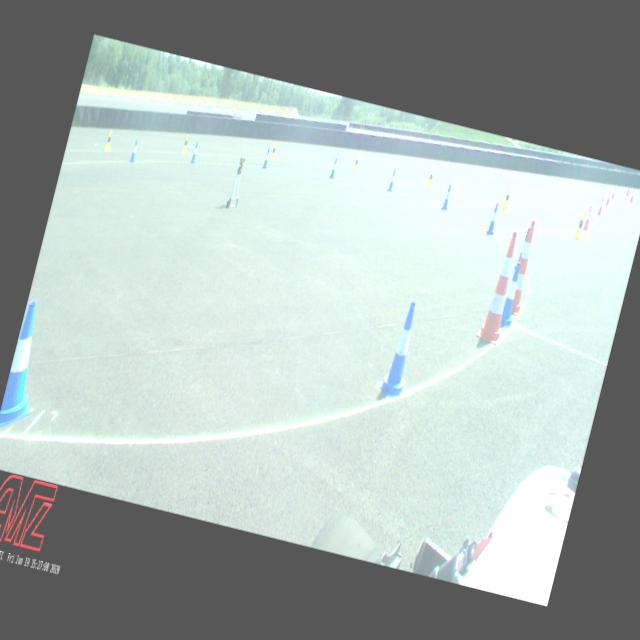blue_cone: (0, 300, 55, 433), (377, 298, 428, 400), (498, 262, 526, 328), (514, 227, 530, 270), (486, 202, 500, 235), (442, 182, 454, 210), (129, 139, 140, 162), (386, 168, 396, 191), (190, 142, 200, 164), (262, 148, 271, 169), (329, 158, 338, 178)
large_orange_cone: (476, 230, 528, 344), (508, 220, 542, 314)
orange_cone: (582, 204, 594, 230), (596, 195, 605, 215), (605, 189, 612, 205), (629, 188, 635, 202), (612, 186, 616, 198)
unknown_cone: (625, 187, 629, 196)
yellow_cone: (572, 210, 588, 240), (502, 186, 512, 210), (105, 130, 114, 150), (426, 168, 435, 188), (270, 142, 278, 160), (352, 154, 360, 172), (182, 135, 190, 153)
